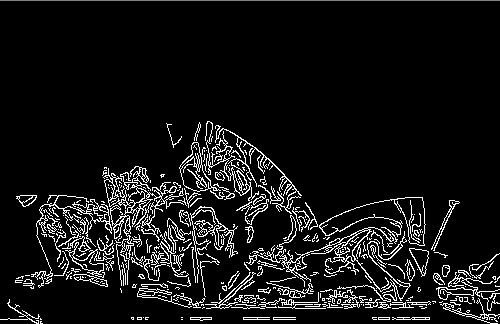opera house: (13, 107, 468, 304)
